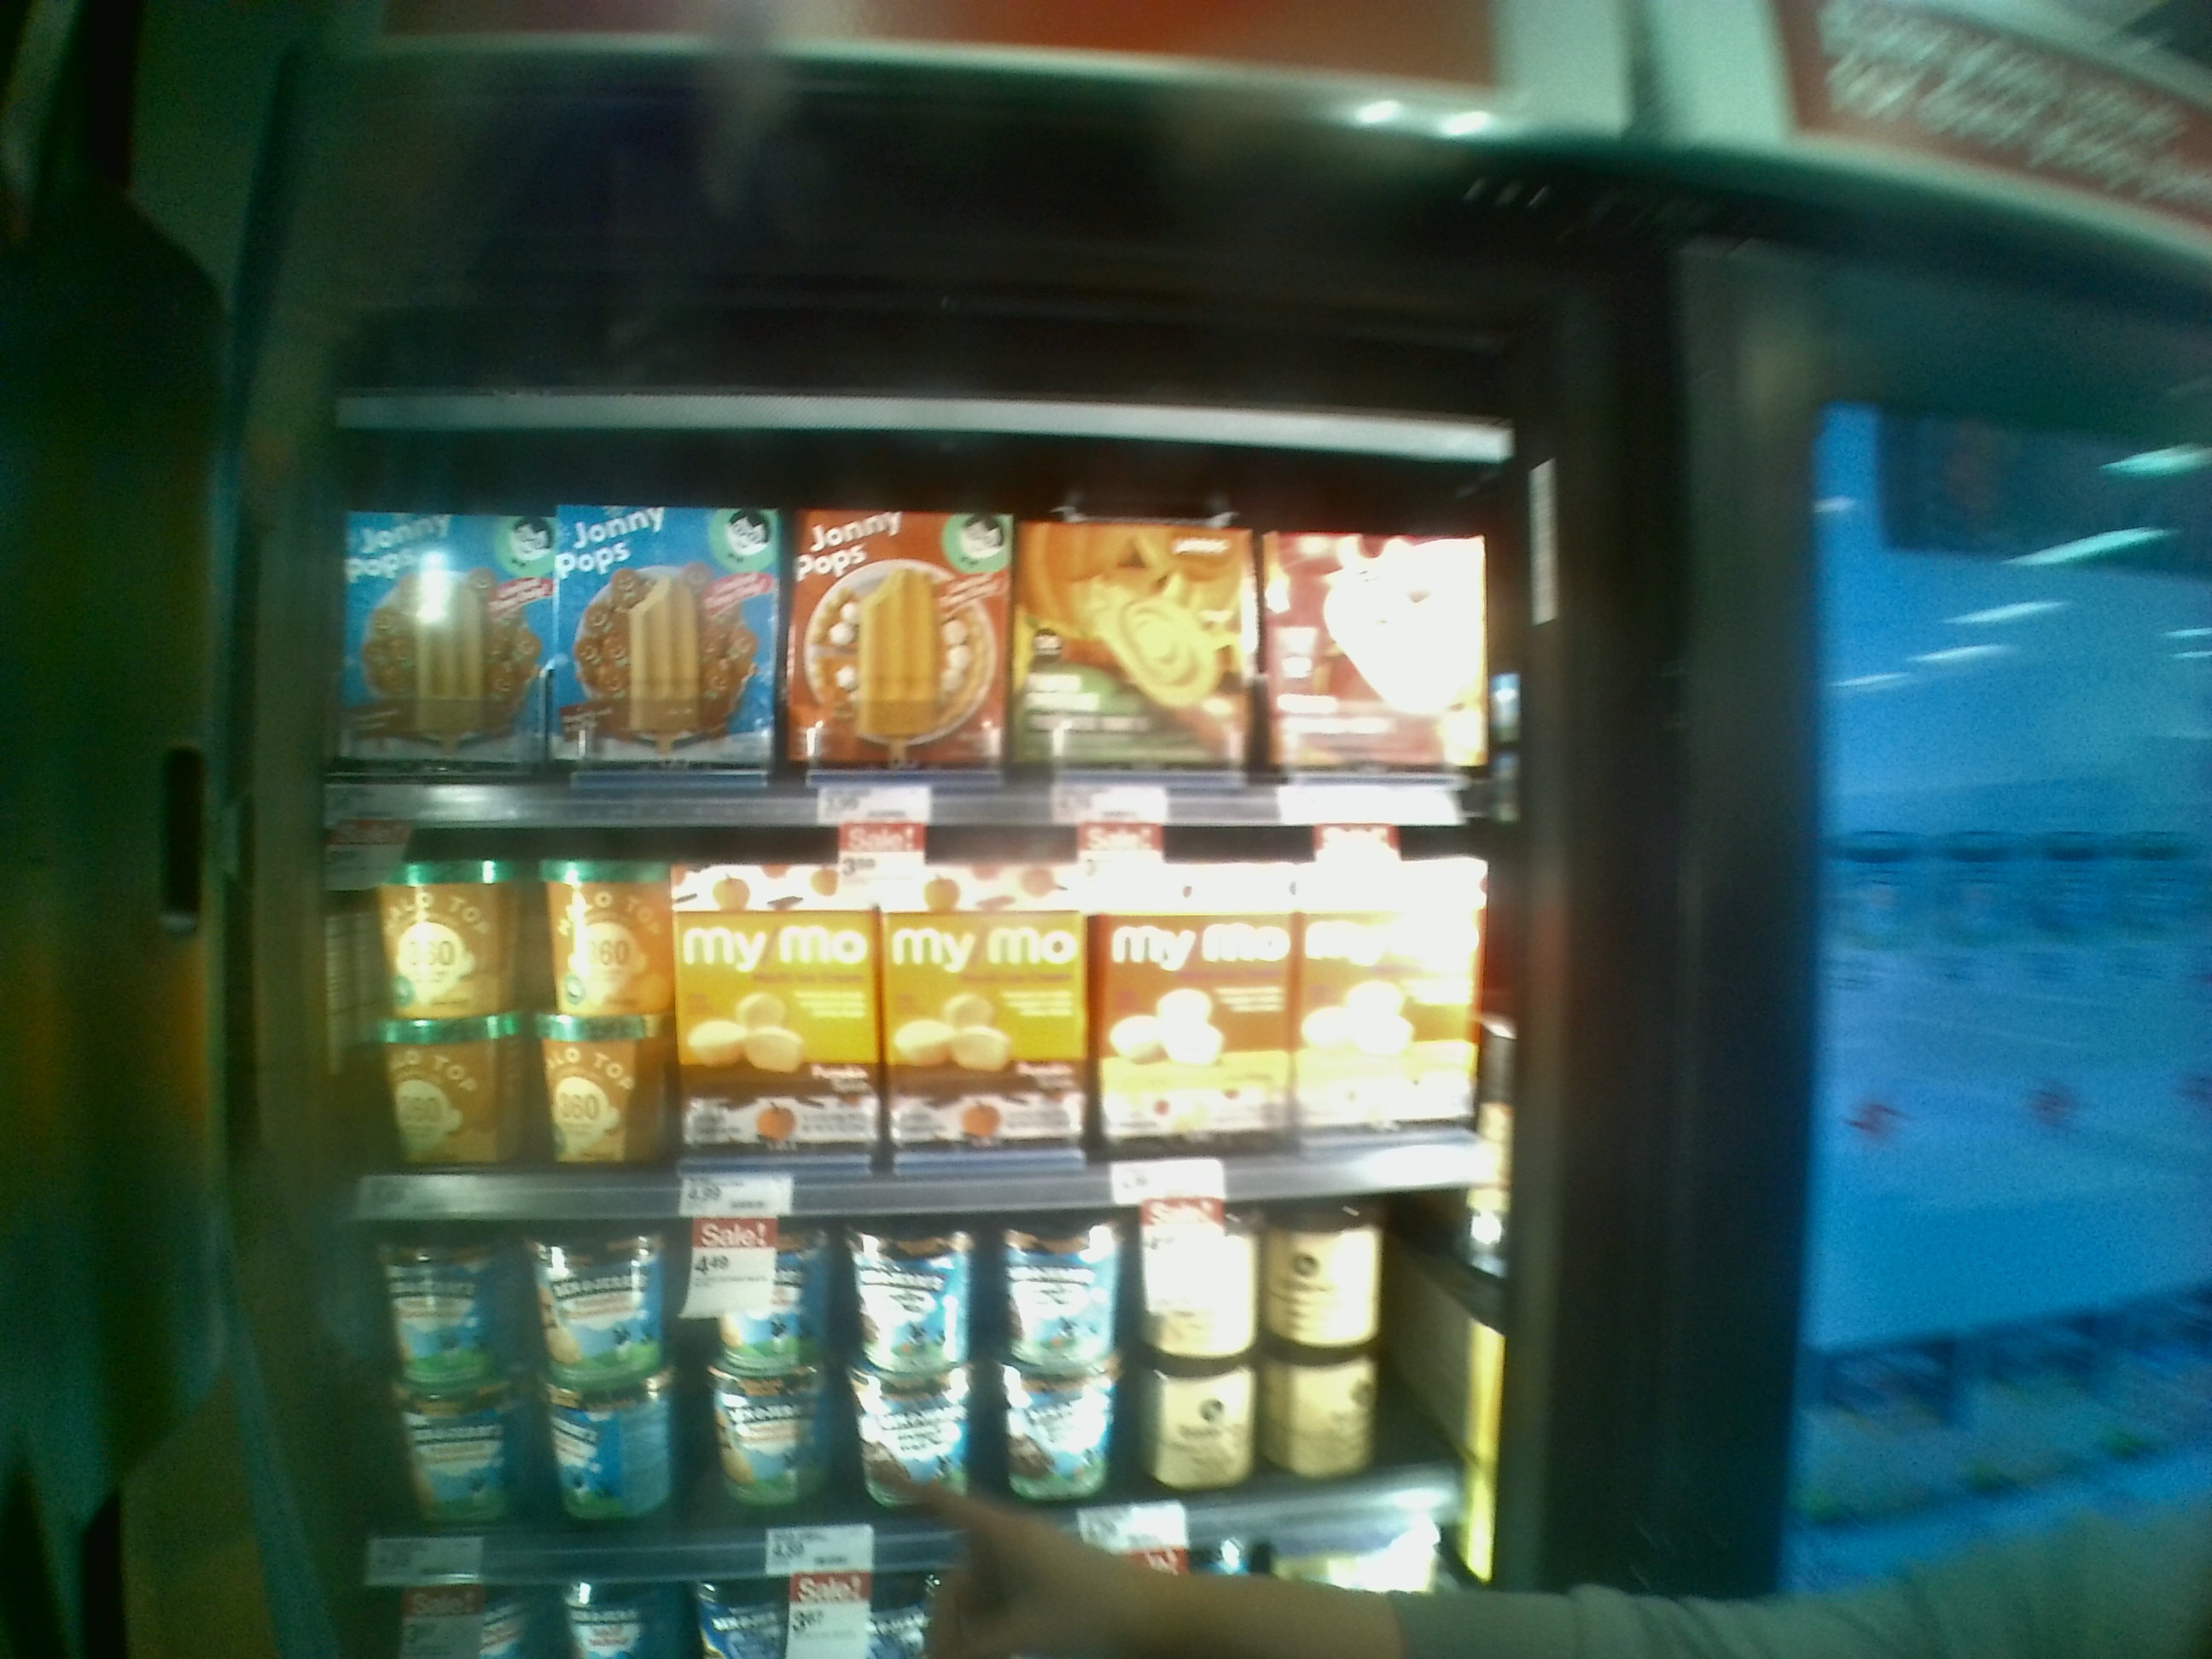shelf: (303, 423, 1531, 828), (296, 817, 1527, 1187)
